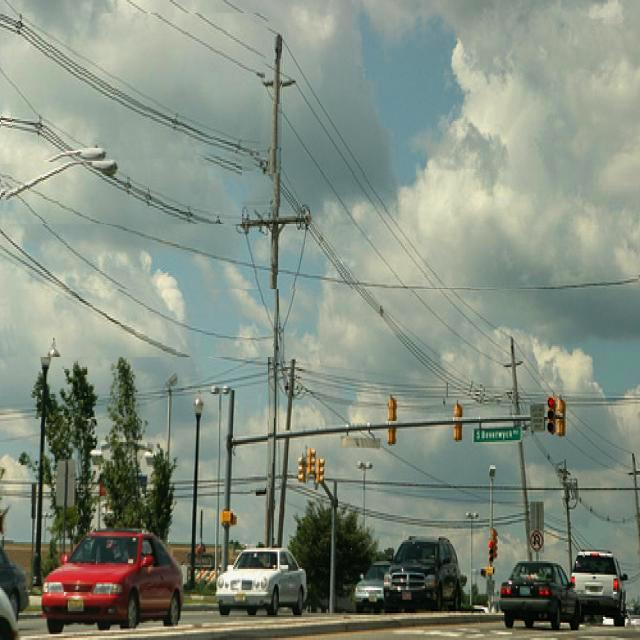crossarm: (242, 217, 310, 226)
pole: (268, 36, 283, 508)
wire: (0, 171, 638, 289), (1, 14, 263, 159), (1, 23, 236, 171), (0, 233, 198, 357), (1, 115, 236, 208), (1, 121, 210, 224)
